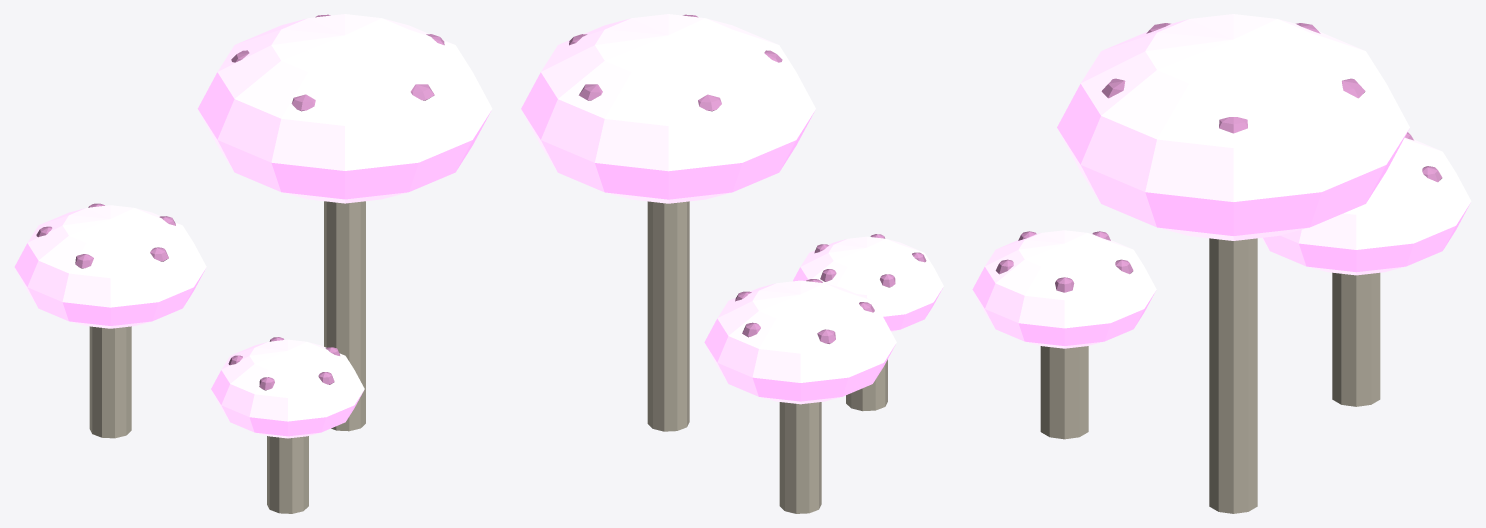
Rendered from glowing_purple_mushrooms.glb.
3 views of the same model, side by side, from view 1: azimuth 30°, elevation 25°; view 2: azimuth 150°, elevation 25°; view 3: azimuth 270°, elevation 25° (orthographic). The views are drawn at different scales.
Bounding box in the file's own units: 0.71 × 0.6665 × 0.65.
